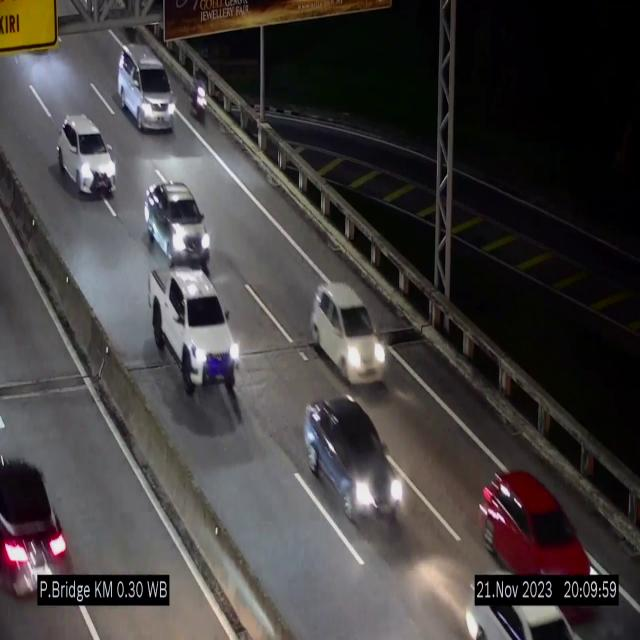Car: (470, 465, 598, 612), (301, 396, 403, 526), (148, 264, 239, 396), (0, 445, 76, 601), (462, 571, 583, 640), (310, 283, 387, 385), (144, 182, 210, 270), (118, 44, 176, 130), (58, 115, 116, 196)
Motorcycle: (190, 65, 208, 131)
